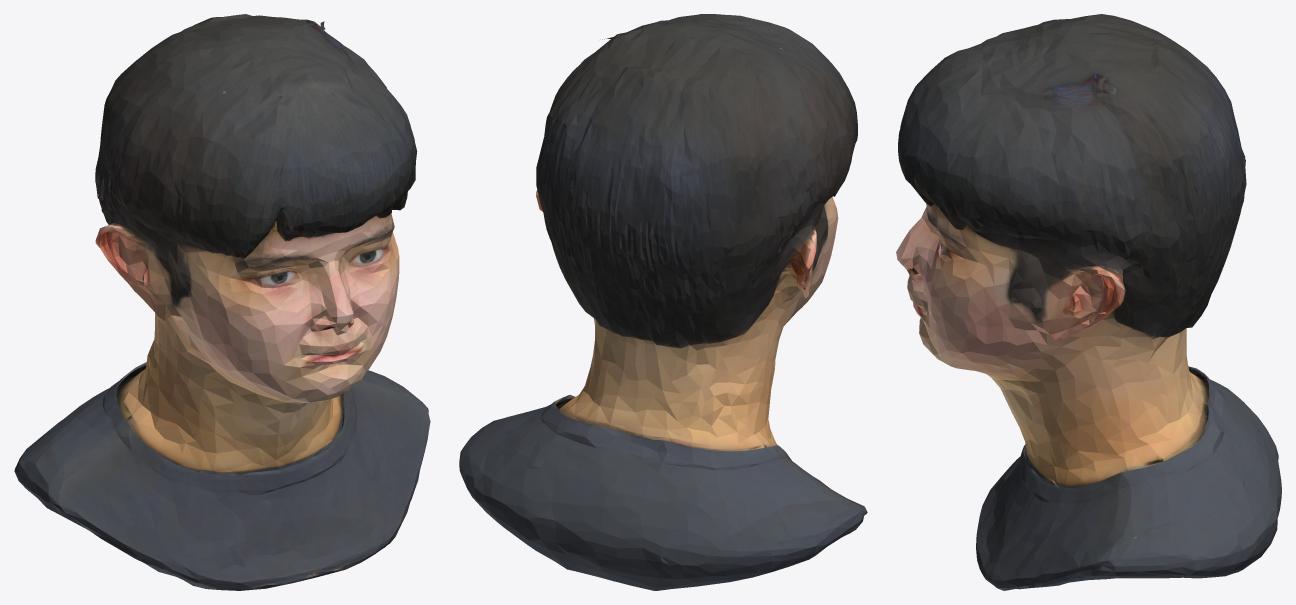
3 views of the same model, side by side, from view 1: azimuth 30°, elevation 25°; view 2: azimuth 150°, elevation 25°; view 3: azimuth 270°, elevation 25° (orthographic). The views are drawn at different scales.
Parts seen in each view (by area): view 1: Unknown_Person_0508043731_texture; view 2: Unknown_Person_0508043731_texture; view 3: Unknown_Person_0508043731_texture.
Boxes of the visible parts, bbox=[...] form: Unknown_Person_0508043731_texture: bbox=[14, 14, 430, 590]; Unknown_Person_0508043731_texture: bbox=[459, 14, 867, 590]; Unknown_Person_0508043731_texture: bbox=[896, 14, 1281, 590].
Bounding box in the file's own units: 1.55 × 1.99 × 1.35.
